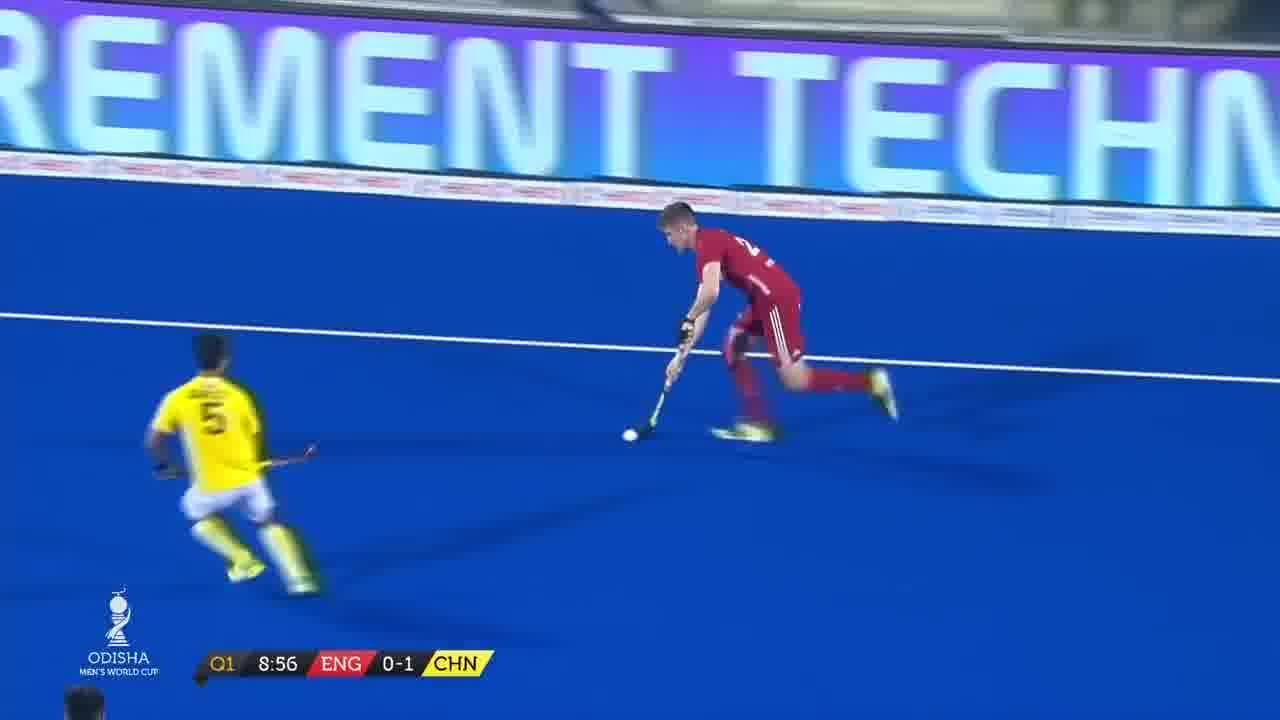ball: (618, 426, 638, 448)
